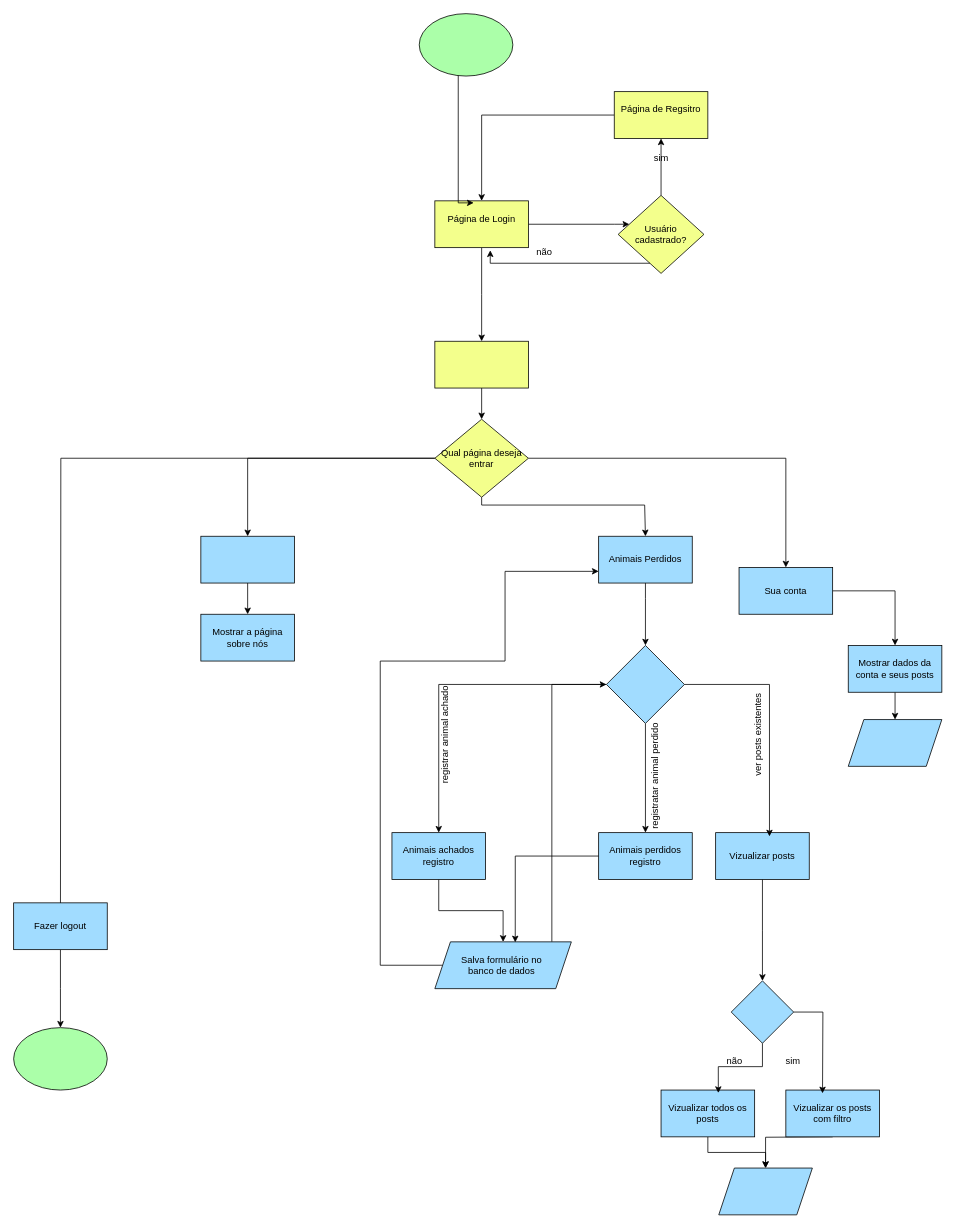
The diagram is 955 pixels wide and 1229 high, and some of its shapes have lost their labels. The centre of each missing label's shape, as x and y in pixels:
Busca os valores no banco de dados: (x=765, y=1191)
Busca posts no bacno de dados: (x=894, y=742)
Deseja filtrar posts?: (x=762, y=1011)
Finalização sesão: (x=60, y=1058)
INICIO: (x=465, y=44)
Página Principal: (x=481, y=364)
Qual ação será realizada?: (x=645, y=684)
Sobre nós: (x=247, y=559)
